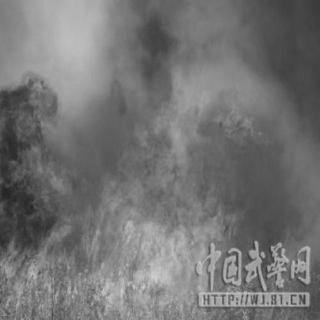Fire: (93, 96, 273, 302), (1, 77, 77, 281)
Smoke: (101, 8, 168, 122)
